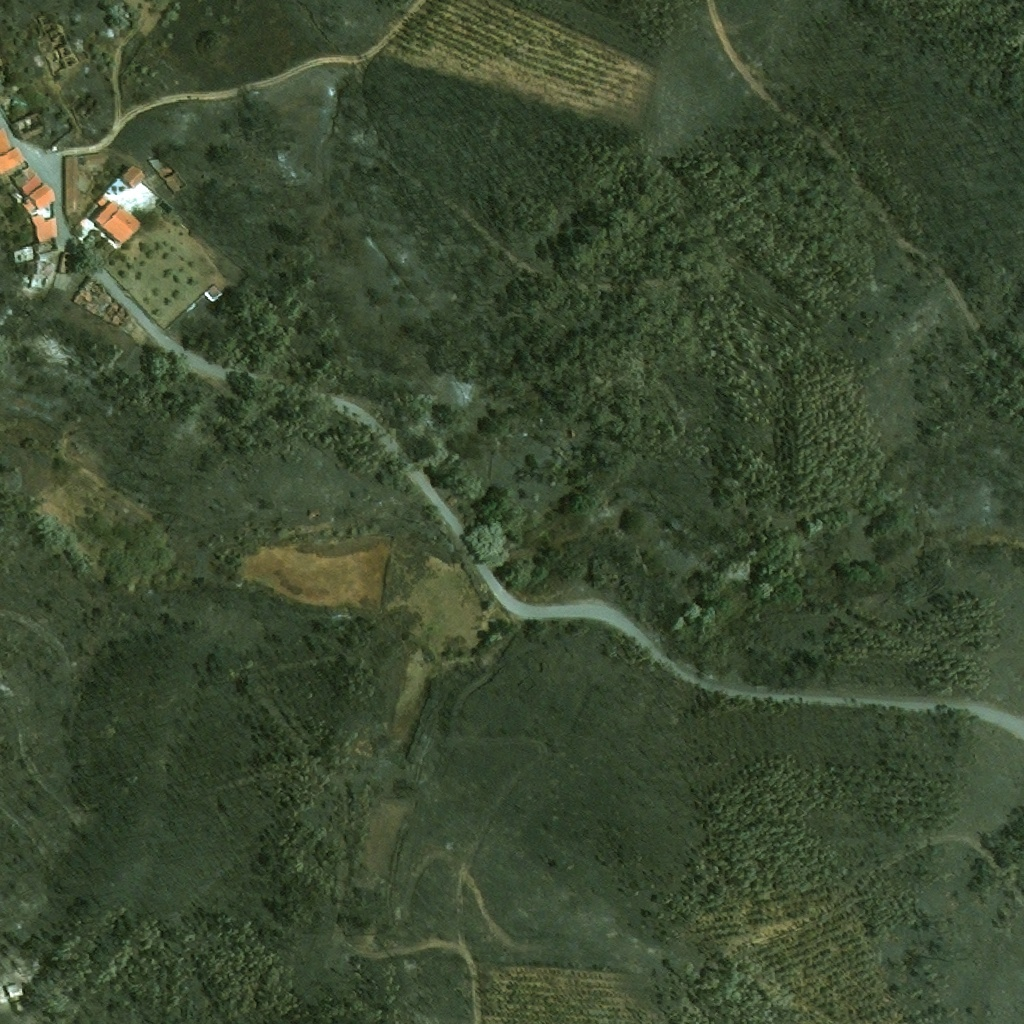0 no-damage: (93, 197, 141, 245), (62, 158, 77, 217), (13, 165, 42, 193), (118, 161, 145, 189), (31, 214, 57, 241), (0, 147, 24, 174), (28, 184, 55, 208), (83, 155, 110, 166), (0, 127, 10, 153)
2 major-damage: (4, 981, 27, 1004), (203, 283, 221, 300)
3 destroyed: (147, 157, 187, 190), (11, 113, 44, 142), (23, 235, 58, 262), (77, 275, 107, 301), (29, 259, 53, 290), (103, 299, 124, 323), (57, 252, 75, 274), (113, 307, 130, 327), (58, 48, 77, 65)
4 un-classified: (0, 52, 7, 70)
